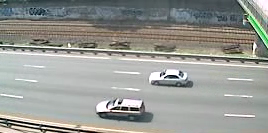car: (93, 94, 151, 121), (147, 67, 191, 90)
